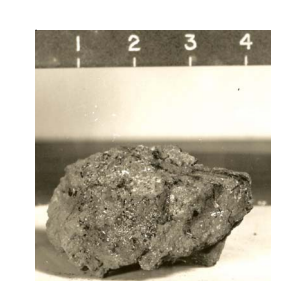Breccia: (45, 145, 263, 264), (106, 170, 209, 241)
